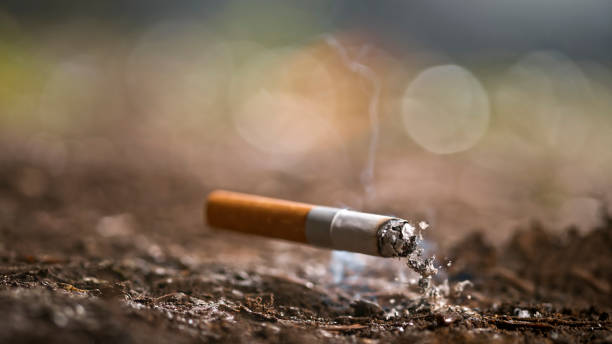cigarette: (203, 188, 424, 260)
